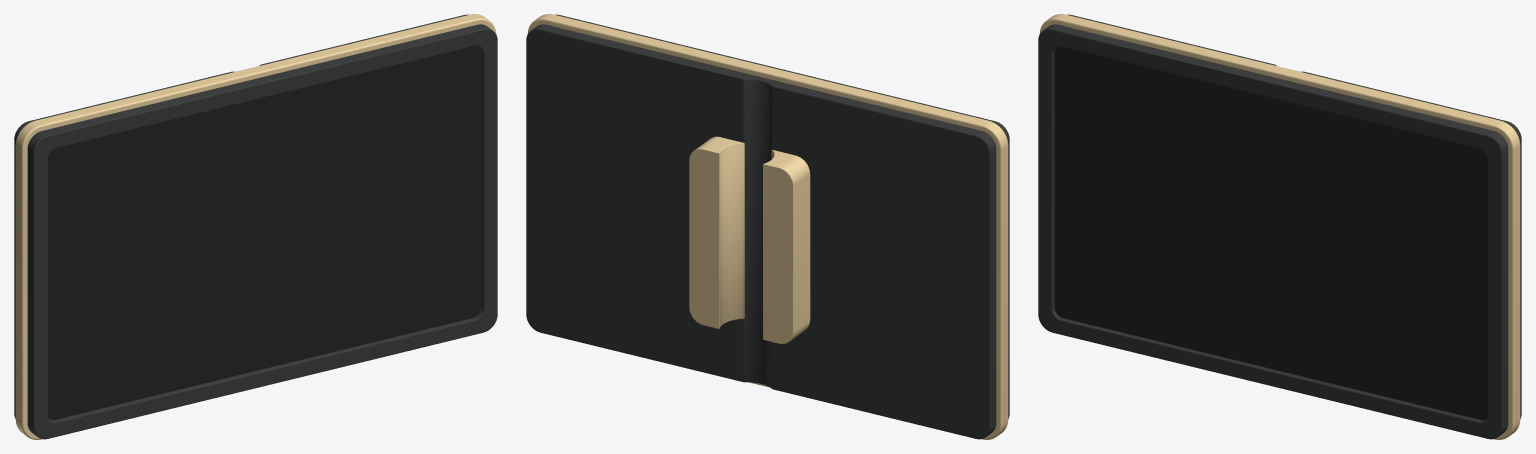
The model's file is launch-block.glb.
3 renders of one model, left to right at view 1: azimuth 30°, elevation 25°; view 2: azimuth 150°, elevation 25°; view 3: azimuth 330°, elevation 25°, orthographic.
Visible parts, largest first — view 1: face, slab, edge; view 2: slab, socket, edge; view 3: face, slab, edge.
Part boxes in pixels (x1,y1,x2,y2): face: (48, 46, 481, 420); slab: (14, 14, 497, 439); edge: (15, 14, 496, 439); slab: (526, 14, 1009, 439); socket: (689, 136, 810, 343); edge: (527, 14, 1008, 439); face: (1054, 46, 1487, 420); slab: (1038, 14, 1521, 439); edge: (1039, 14, 1520, 439).
Bounding box in the file's own units: 1.64 × 1.04 × 0.22.
